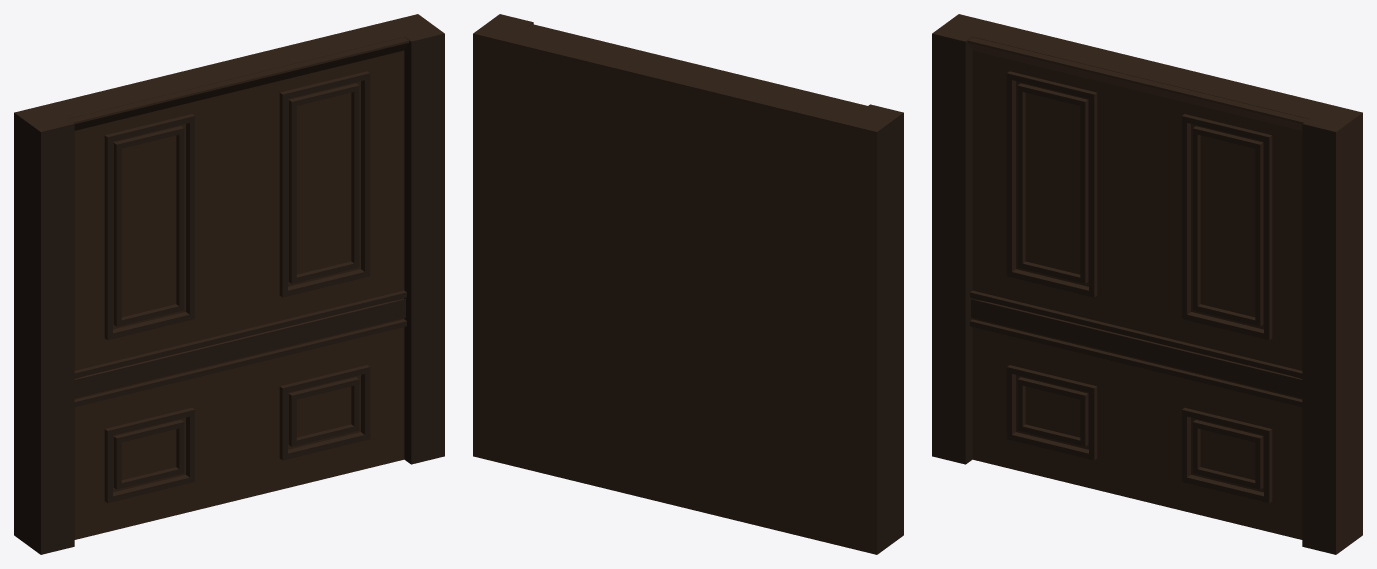
File: WALL.glb
The picture shows the model from 3 angles, left to right: view 1: azimuth 30°, elevation 25°; view 2: azimuth 150°, elevation 25°; view 3: azimuth 330°, elevation 25°; orthographic projection.
Parts seen in each view (by area): view 1: Main room double wall; view 2: Main room double wall; view 3: Main room double wall.
Part boxes in pixels (left/top/right/bottom): Main room double wall: left=14, top=14, right=444, bottom=554; Main room double wall: left=473, top=14, right=903, bottom=554; Main room double wall: left=932, top=14, right=1362, bottom=554.
Bounding box in the file's own units: 2 × 2 × 0.2293.
